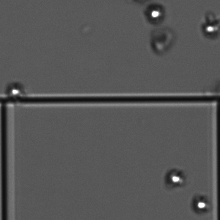Dead Cell: (150, 27, 177, 54)
Living Cell: (143, 2, 166, 25), (165, 166, 186, 188), (6, 81, 27, 101), (190, 194, 211, 213), (201, 20, 218, 36)
